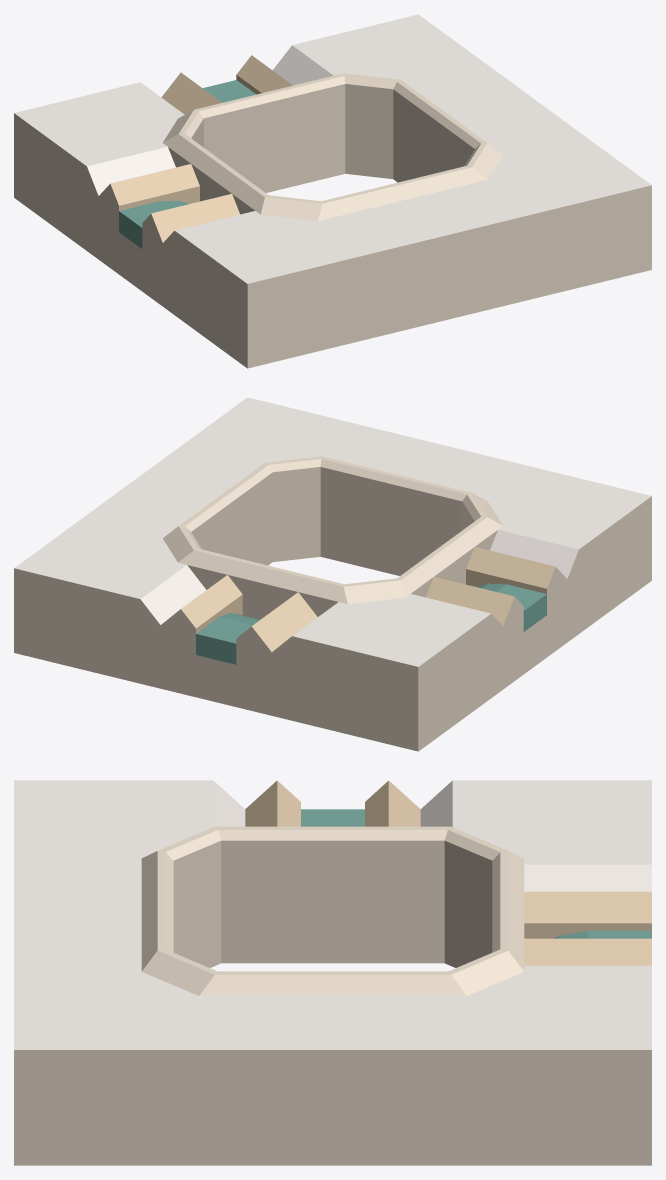
The model's file is Puzzle_Floor_Conduit_Control_Housing_Corner.glb.
3 views of the same model, one above another, from view 1: azimuth 30°, elevation 25°; view 2: azimuth 150°, elevation 25°; view 3: azimuth 270°, elevation 25° (orthographic). The views are drawn at different scales.
Parts seen in each view (by area): view 1: Puzzle_Floor_Conduit_Control_Housing_Corner; view 2: Puzzle_Floor_Conduit_Control_Housing_Corner; view 3: Puzzle_Floor_Conduit_Control_Housing_Corner.
Part boxes in pixels (x1,y1,x2,y2): Puzzle_Floor_Conduit_Control_Housing_Corner: (14, 14, 651, 368); Puzzle_Floor_Conduit_Control_Housing_Corner: (14, 397, 651, 751); Puzzle_Floor_Conduit_Control_Housing_Corner: (14, 780, 651, 1165).
Size of the model in its own units: 1 by 0.225 by 1.
